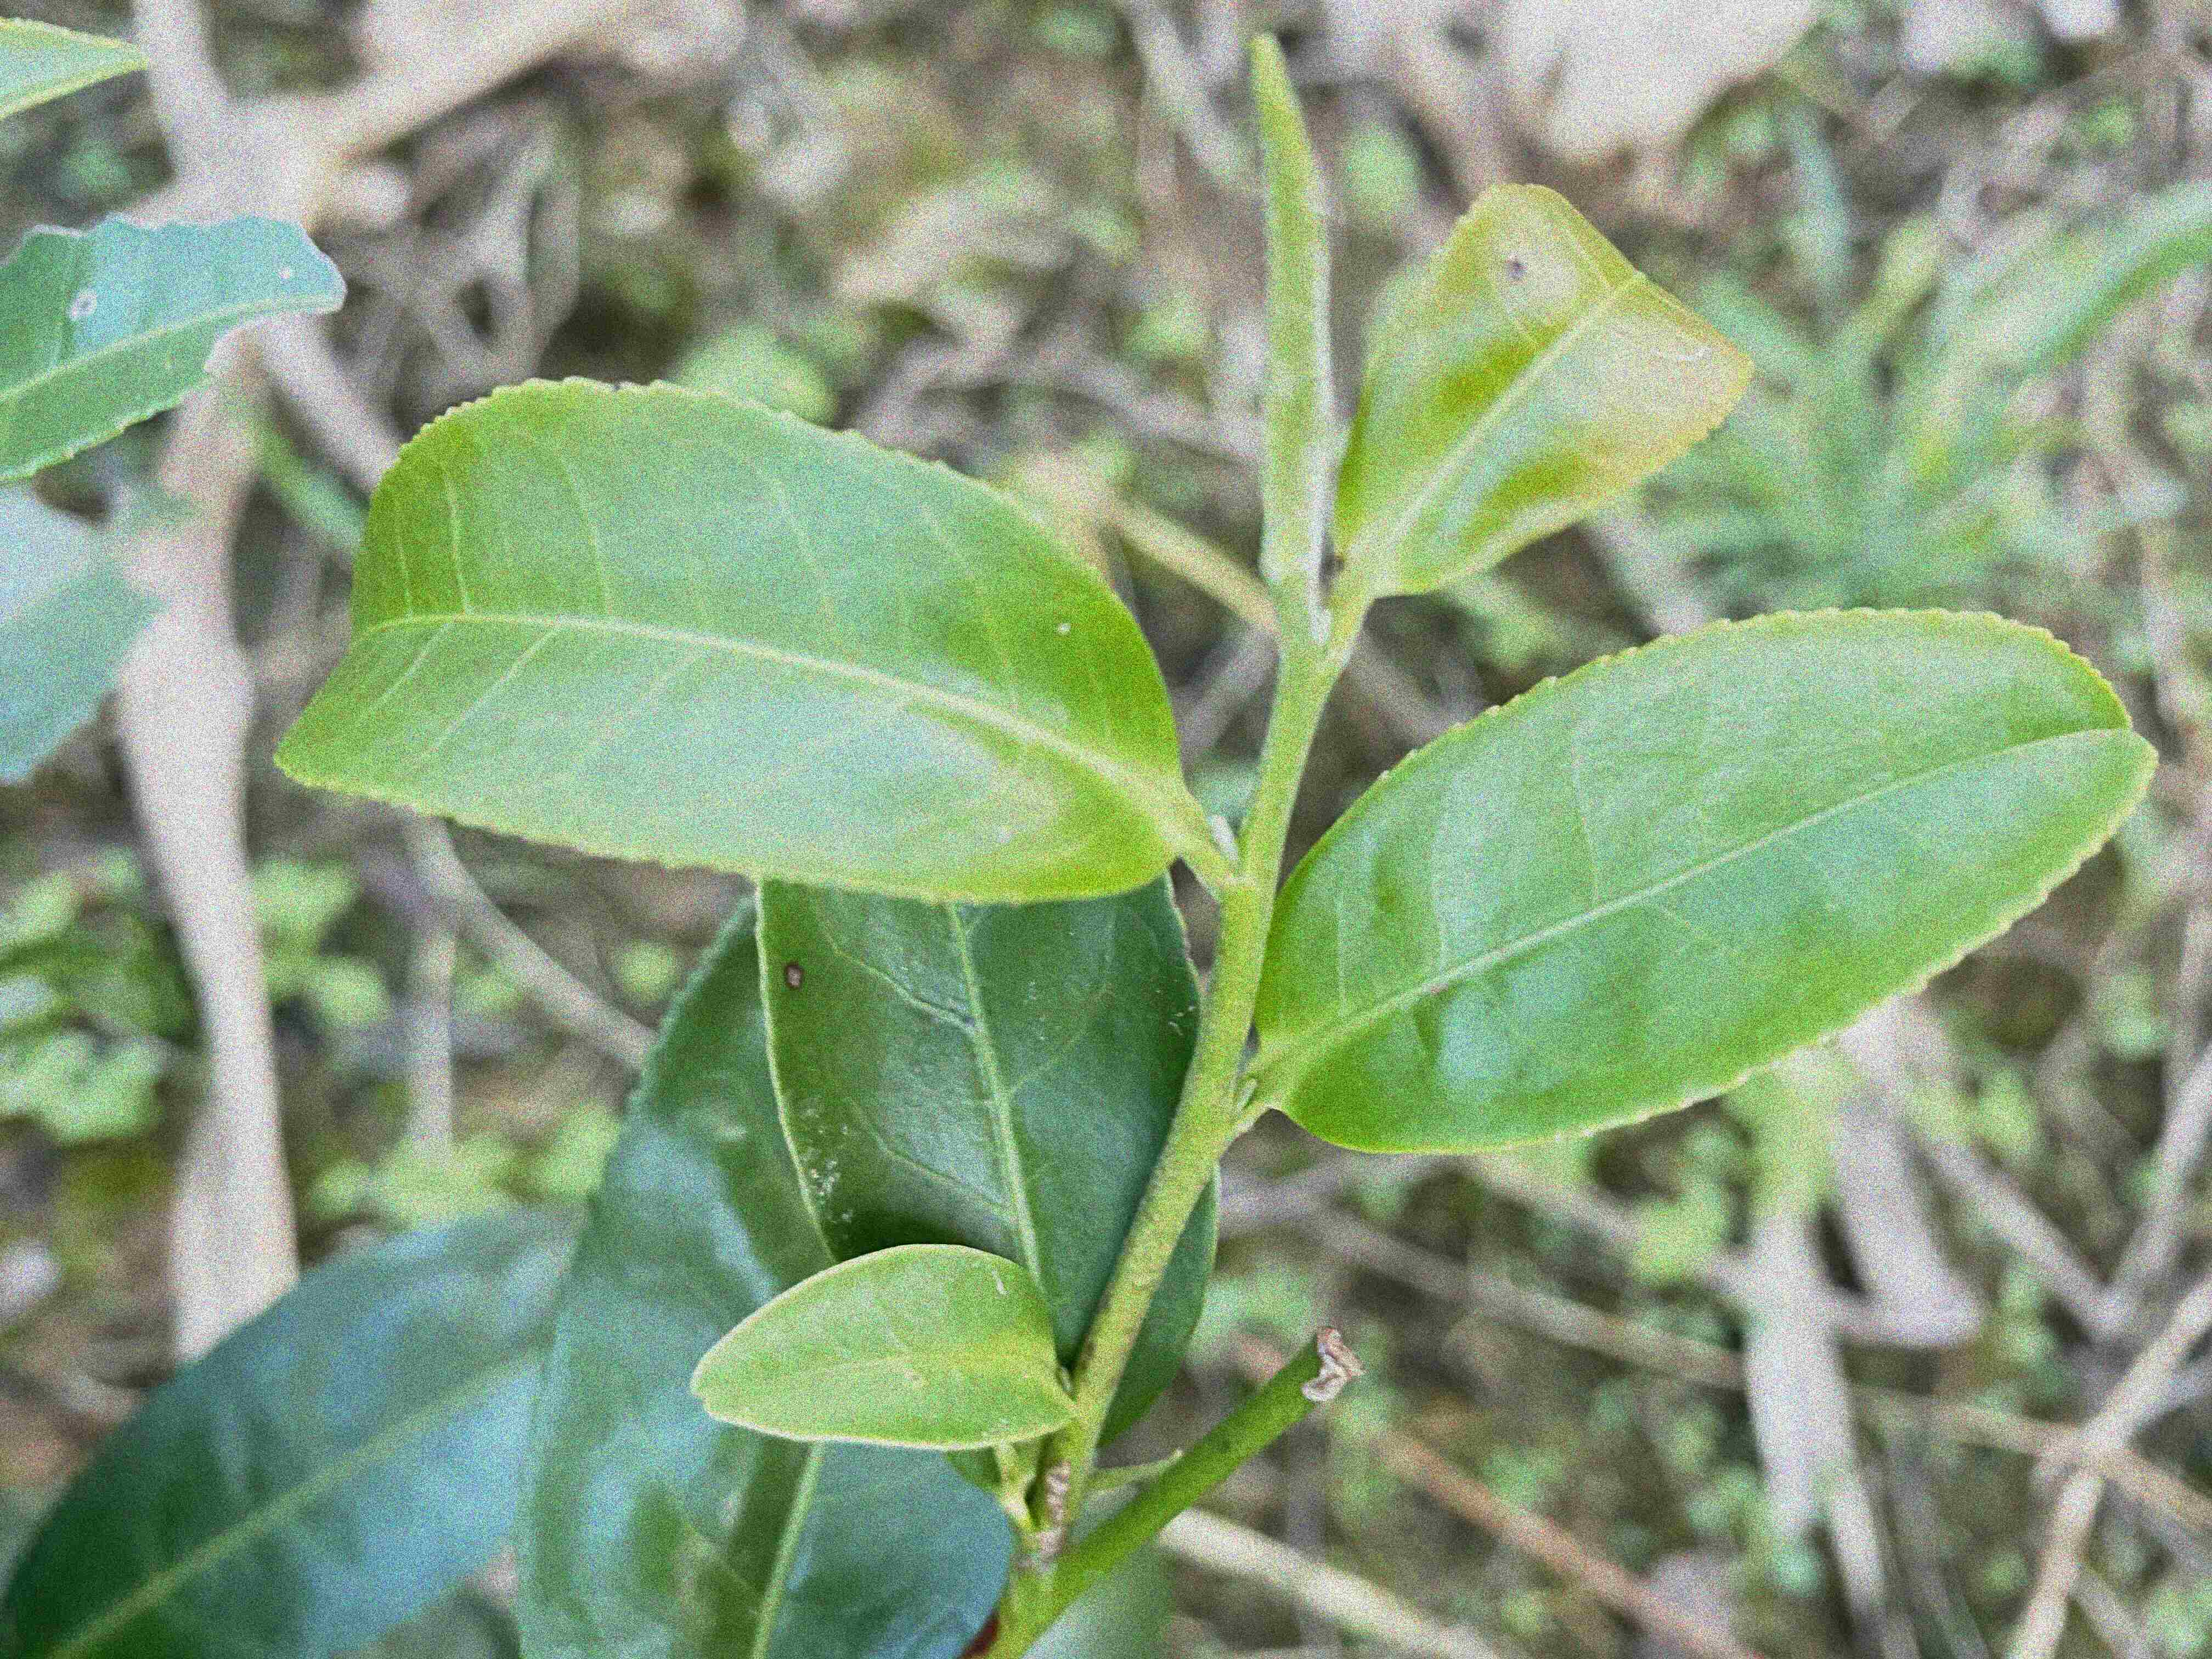healthy: (1252, 603, 2160, 1154), (272, 369, 1183, 906)
tanju_low: (751, 885, 1224, 1499), (1327, 181, 1757, 594)
